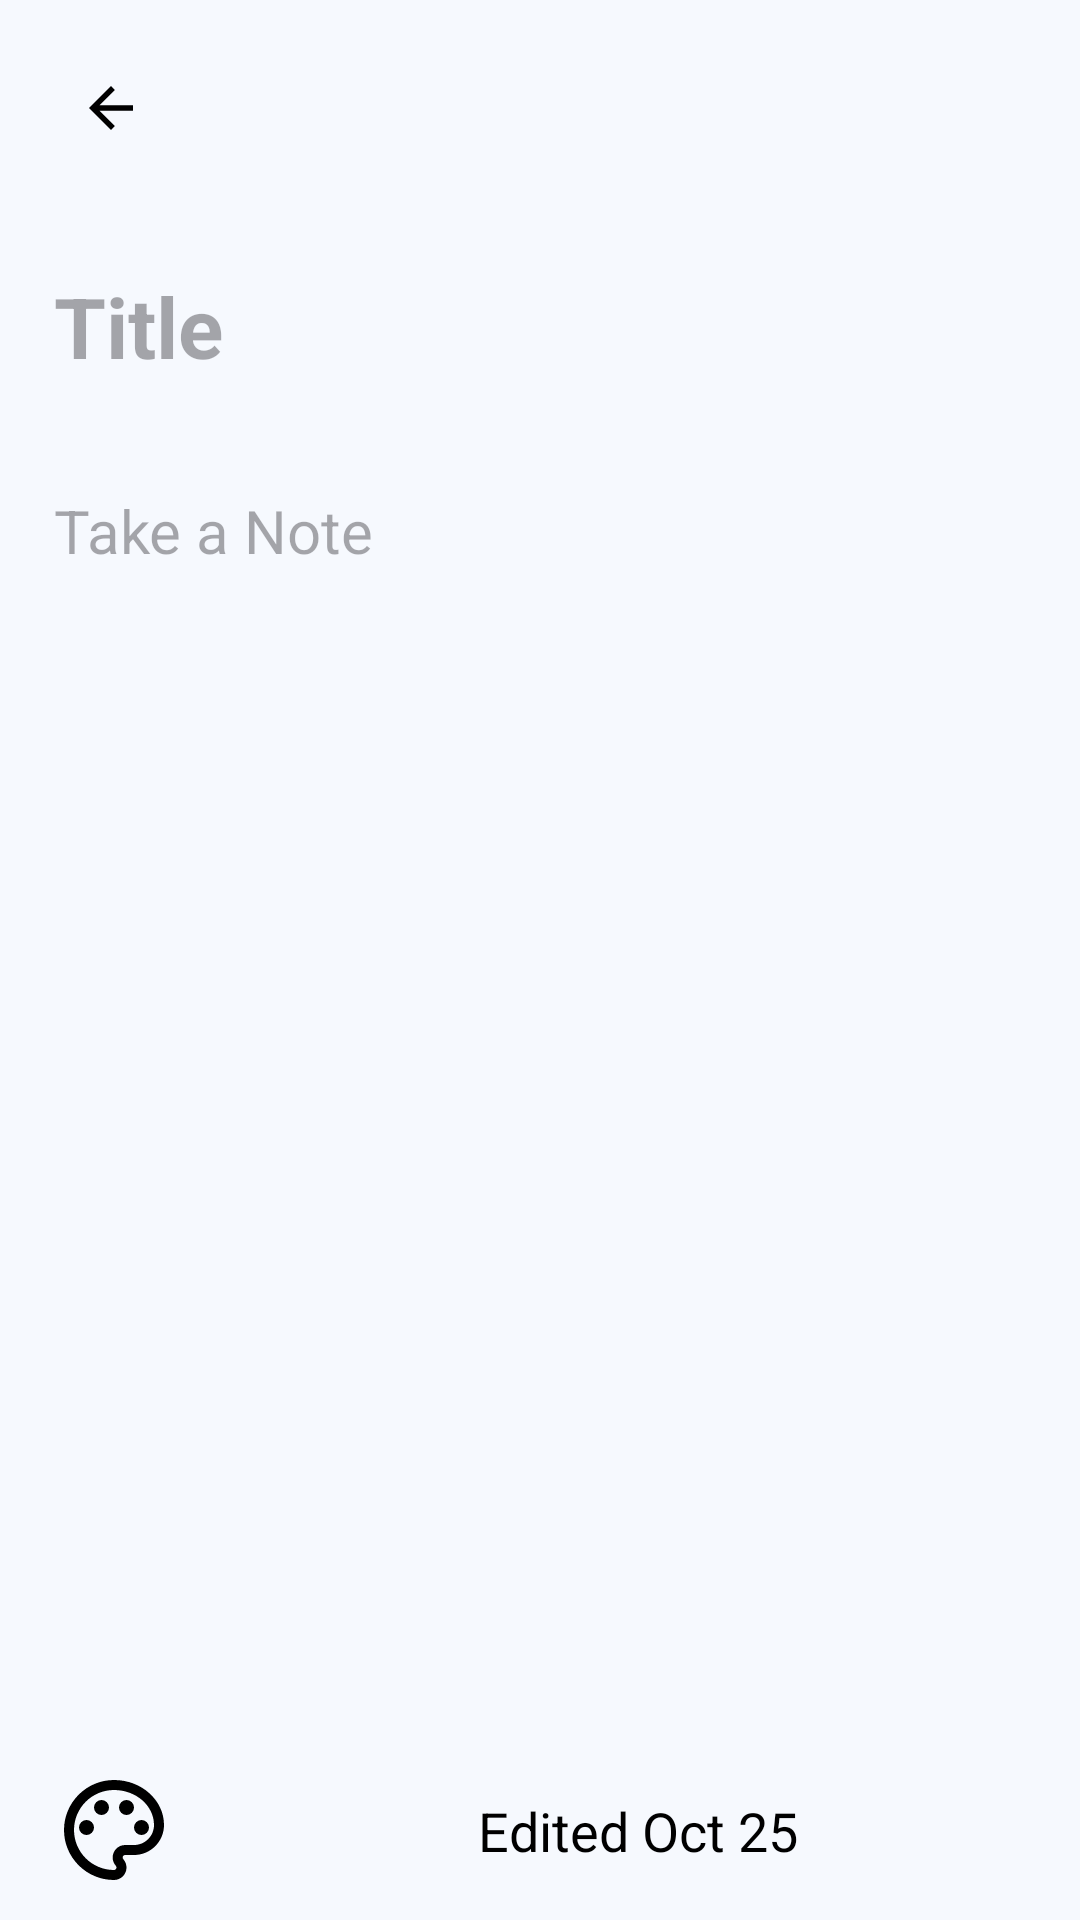

Where icons sit on this 1080x1920 app screen, as (x1, y1, x2, y2):
Back-Button: (89, 86, 133, 130)
picker: (64, 1780, 164, 1880)
